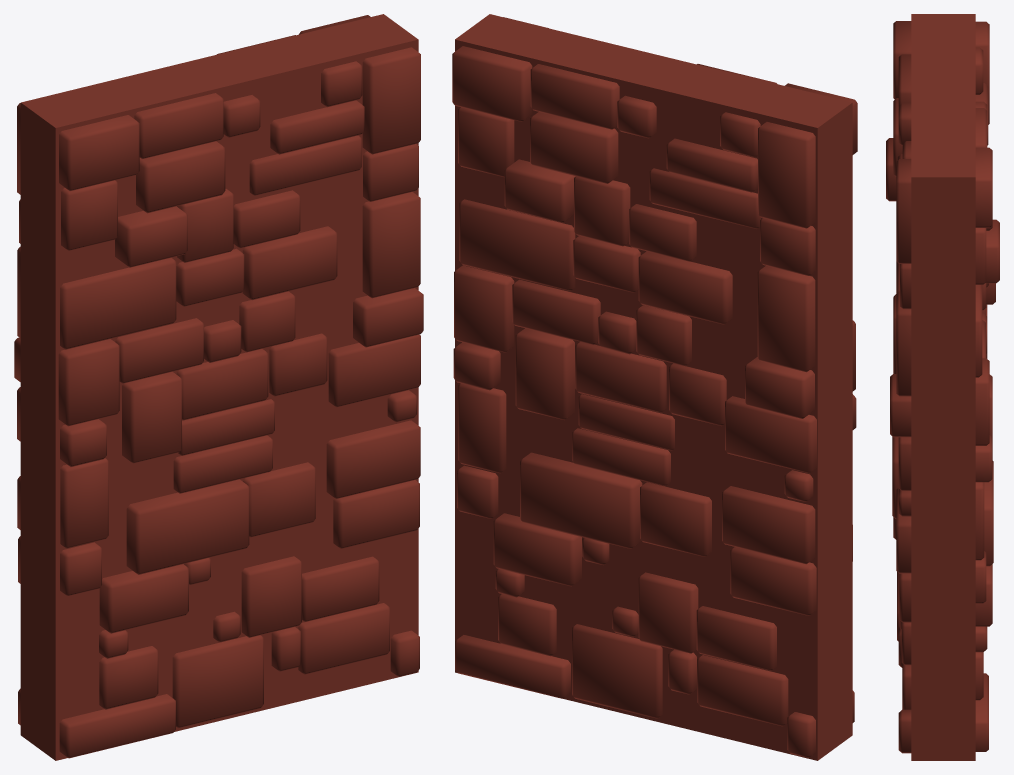
Rendered from wall_001.fbx.
The picture shows the model from 3 angles, left to right: view 1: azimuth 30°, elevation 25°; view 2: azimuth 150°, elevation 25°; view 3: azimuth 270°, elevation 25°; orthographic projection. The views are drawn at different scales.
Parts seen in each view (by area): view 1: wall_001; view 2: wall_001; view 3: wall_001.
Boxes of the visible parts, x1=… form: wall_001: x1=14, y1=14, x2=423, y2=760; wall_001: x1=452, y1=14, x2=857, y2=760; wall_001: x1=886, y1=14, x2=999, y2=760.
Bounding box in the file's own units: 600 × 176 × 1000.
